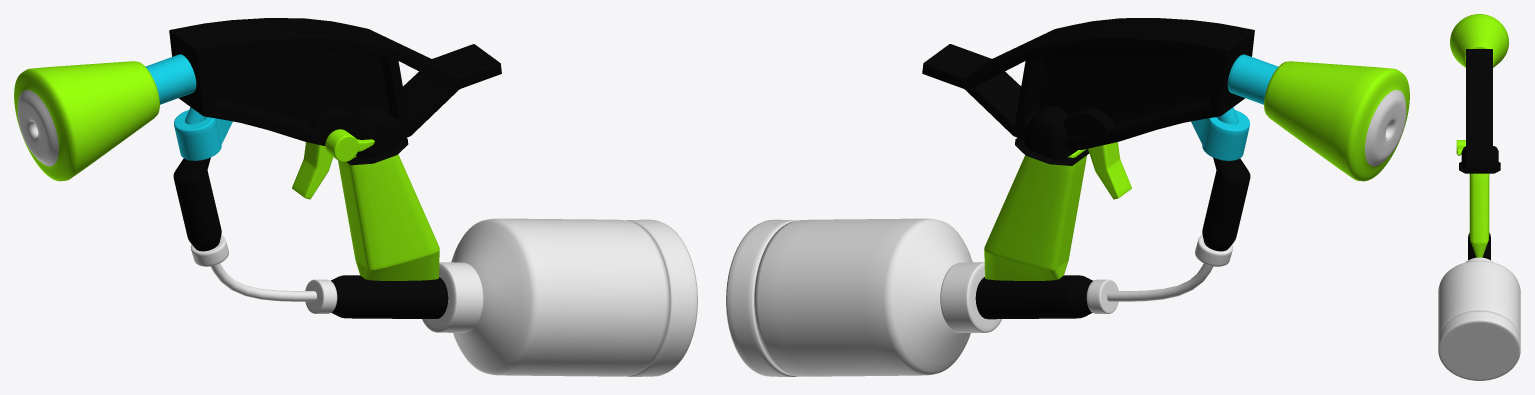
File: Duelies.fbx
3 renders of one model, left to right at view 1: azimuth 30°, elevation 25°; view 2: azimuth 150°, elevation 25°; view 3: azimuth 270°, elevation 25°, orthographic. The views are drawn at different scales.
Parts seen in each view (by area): view 1: Cylinder.041; view 2: Cylinder.041; view 3: Cylinder.041.
Boxes of the visible parts, x1=… form: Cylinder.041: x1=14, y1=18, x2=697, y2=376; Cylinder.041: x1=726, y1=18, x2=1409, y2=376; Cylinder.041: x1=1438, y1=14, x2=1520, y2=380.
Size of the model in its own units: 633 by 419 by 142.
